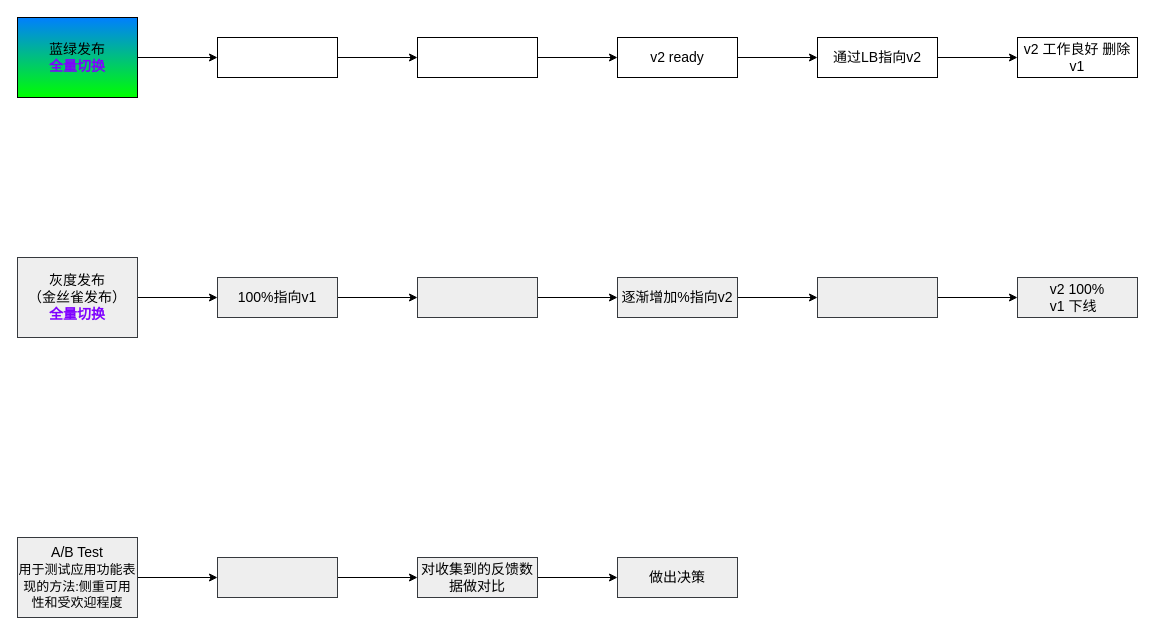
Image size: 1155x635. Some labels were removed from this diagram. Here are the shapes that lost their labels. From the top down, the box of each, then its label:
(216, 36, 338, 78): v1 ready
(416, 36, 538, 78): 通过LB 指向 v1
(416, 276, 538, 318): 10%指向v2
(816, 276, 938, 318): 过程中V2运行良好
(216, 556, 338, 598): 对特定的用户进行采样
